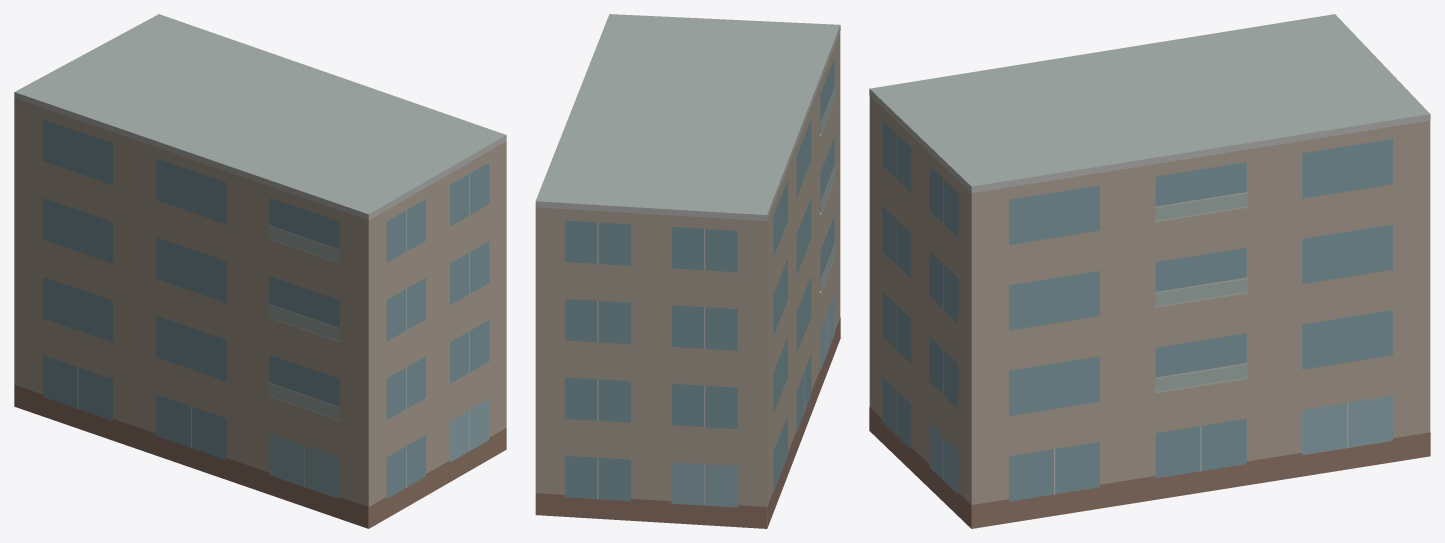
The model's file is survey-upis-32853957.glb.
The picture shows the model from 3 angles, left to right: view 1: azimuth 30°, elevation 25°; view 2: azimuth 150°, elevation 25°; view 3: azimuth 270°, elevation 25°; orthographic projection. The views are drawn at different scales.
Visible parts, largest first — view 1: survey-upis-32853957.tmp; view 2: survey-upis-32853957.tmp; view 3: survey-upis-32853957.tmp.
Boxes of the visible parts, x1,y1,x2,y2 form: survey-upis-32853957.tmp: (14, 14, 506, 528); survey-upis-32853957.tmp: (535, 14, 840, 528); survey-upis-32853957.tmp: (869, 14, 1430, 528).
Bounding box in the file's own units: 13.86 × 12.8 × 19.03.
